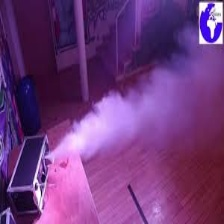smoke: (46, 83, 187, 160)
